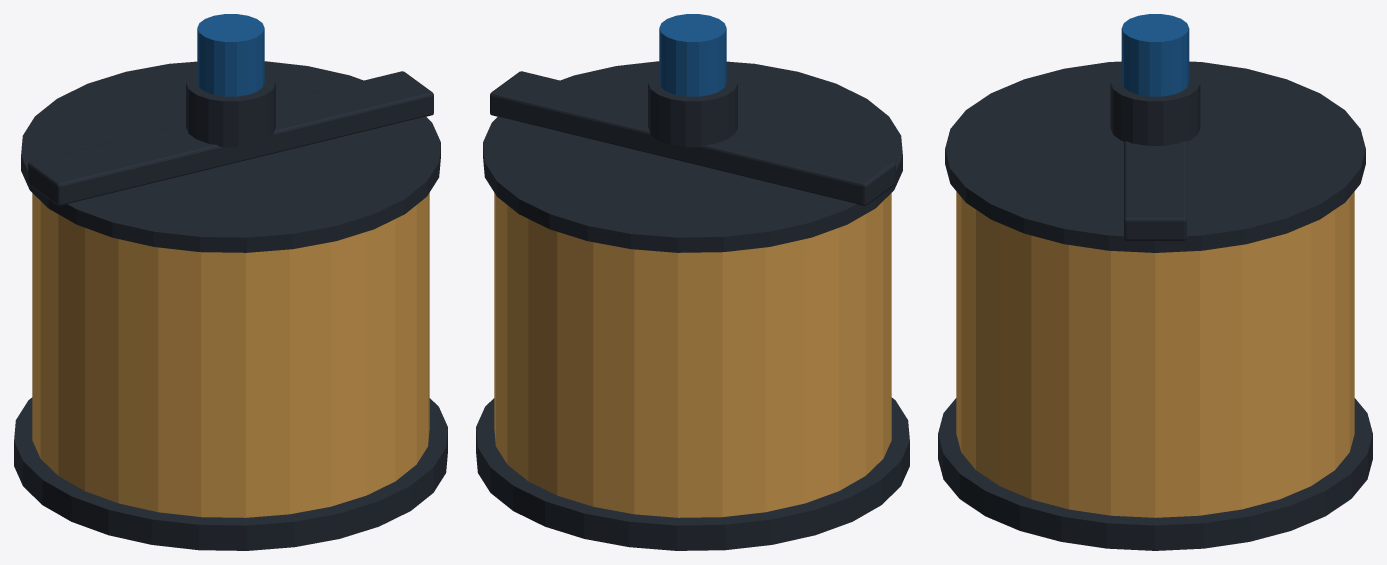
Rendered from magnetite_tank_tk301.glb.
The picture shows the model from 3 angles, left to right: view 1: azimuth 30°, elevation 25°; view 2: azimuth 150°, elevation 25°; view 3: azimuth 270°, elevation 25°; orthographic projection.
Parts seen in each view (by area): view 1: TK301_Shell, TK301_TopRim, TK301_AgitatorBridge, TK301_BaseRing, TK301_AgitatorMotor, TK301_Gearbox; view 2: TK301_Shell, TK301_TopRim, TK301_AgitatorBridge, TK301_BaseRing, TK301_AgitatorMotor, TK301_Gearbox; view 3: TK301_Shell, TK301_TopRim, TK301_BaseRing, TK301_AgitatorBridge, TK301_AgitatorMotor, TK301_Gearbox.
Part boxes in pixels (x1,y1,x2,y2): TK301_Shell: (32, 193, 429, 517); TK301_TopRim: (21, 61, 440, 252); TK301_AgitatorBridge: (28, 71, 433, 205); TK301_BaseRing: (14, 397, 447, 550); TK301_AgitatorMotor: (197, 14, 264, 96); TK301_Gearbox: (186, 70, 275, 147); TK301_Shell: (494, 193, 891, 517); TK301_TopRim: (483, 61, 902, 252); TK301_AgitatorBridge: (490, 71, 895, 205); TK301_BaseRing: (476, 397, 909, 550); TK301_AgitatorMotor: (659, 14, 726, 96); TK301_Gearbox: (648, 70, 737, 147); TK301_Shell: (956, 191, 1354, 517); TK301_TopRim: (945, 61, 1365, 252); TK301_BaseRing: (938, 398, 1372, 550); TK301_AgitatorBridge: (1124, 141, 1186, 240); TK301_AgitatorMotor: (1121, 14, 1189, 96); TK301_Gearbox: (1110, 70, 1200, 145).
Size of the model in its own units: 3.1 by 3.39 by 3.1.
